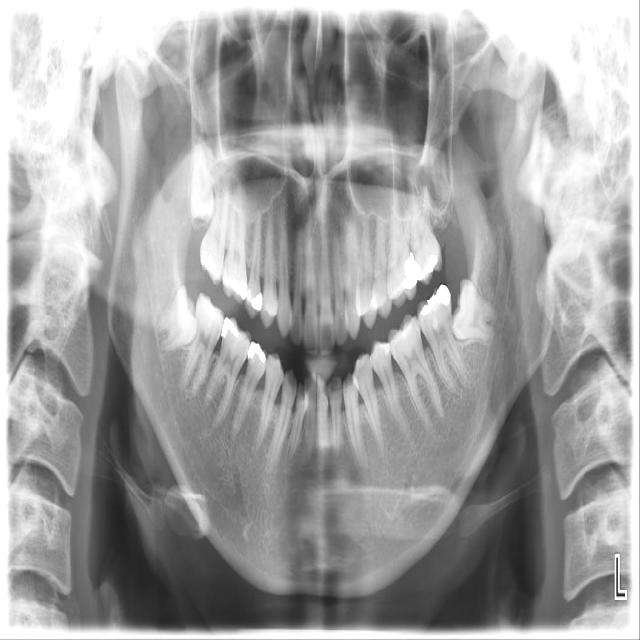Caries: (322, 384, 329, 398)
Filling: (419, 283, 451, 316), (405, 251, 423, 289), (421, 256, 438, 280), (197, 250, 215, 272), (248, 341, 266, 363), (221, 317, 238, 339), (231, 279, 248, 299), (251, 293, 264, 312)
impacted tooth: (153, 285, 199, 351), (451, 280, 499, 343), (189, 141, 215, 225)
